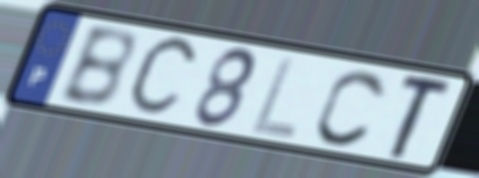8: (193, 44, 259, 130)
B: (54, 24, 137, 111)
C: (123, 33, 204, 121), (313, 66, 391, 150)
L: (247, 53, 302, 142)
T: (385, 74, 458, 162)
